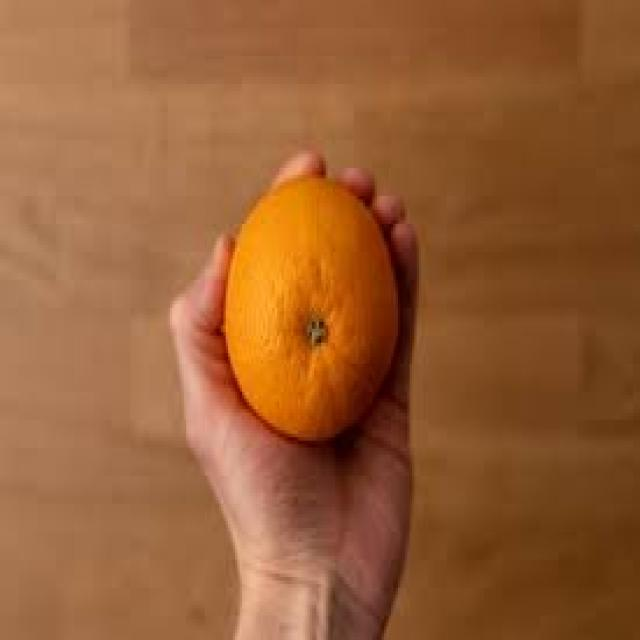orange: (227, 164, 413, 436)
